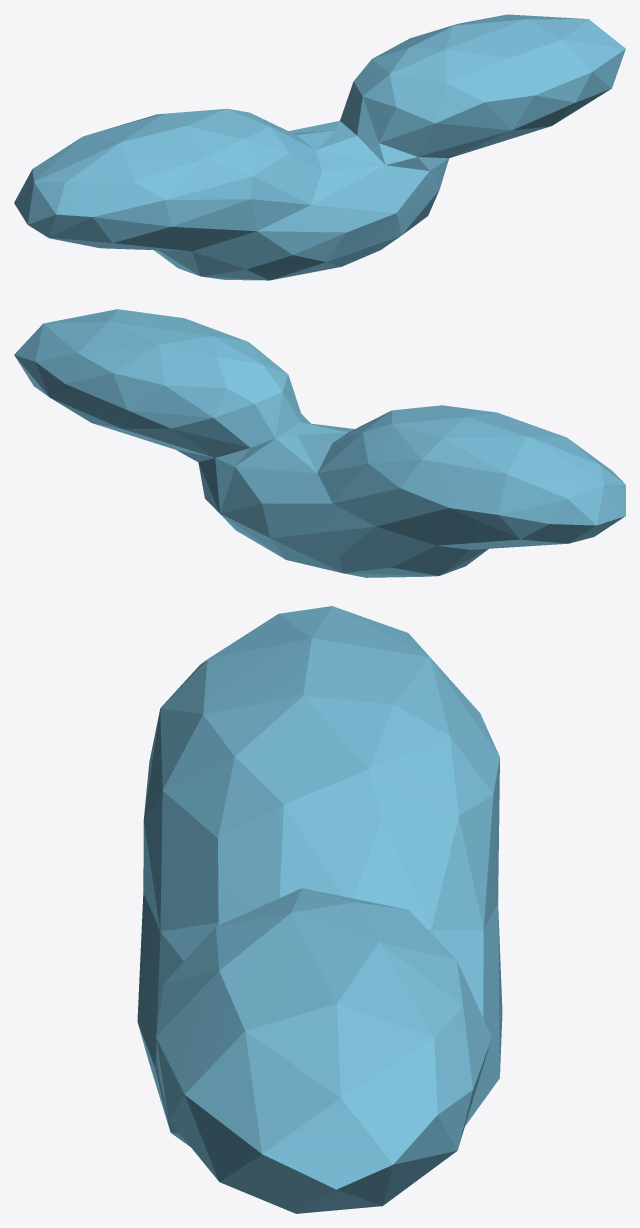
The model's file is oval_cloud_1.fbx.
3 views of the same model, one above another, from view 1: azimuth 30°, elevation 25°; view 2: azimuth 150°, elevation 25°; view 3: azimuth 270°, elevation 25° (orthographic). The views are drawn at different scales.
Visible parts, largest first — view 1: cloud_61; view 2: cloud_61; view 3: cloud_61.
Boxes of the visible parts, x1,y1,x2,y2 form: cloud_61: (14, 14, 625, 280); cloud_61: (14, 309, 625, 577); cloud_61: (137, 606, 502, 1213).
Size of the model in its own units: 579 by 171 by 154.
